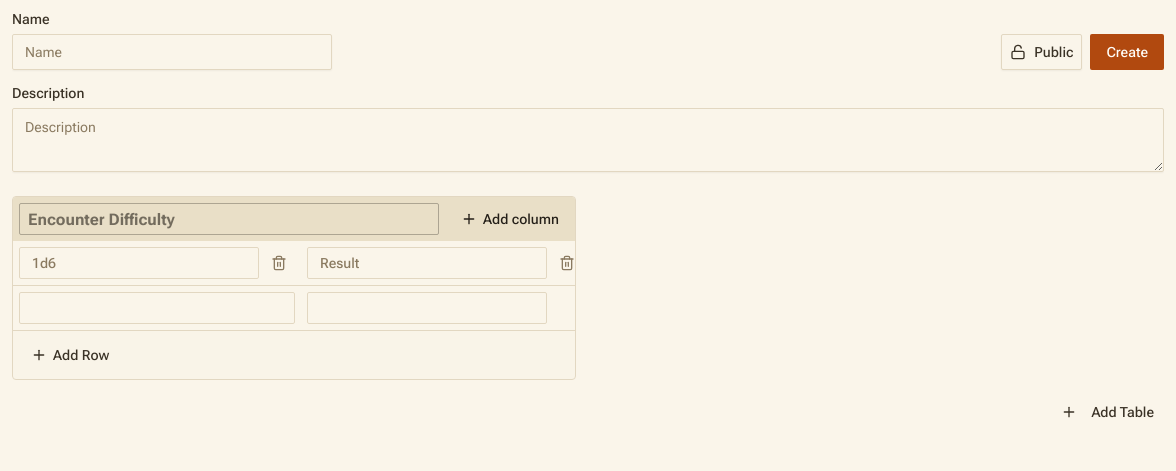
Test: CreateEditRandomTable › keeps the draft and shows a route error
In the field with placeholder "Name": (172, 52) x1=12 y1=34 x2=332 y2=70, type "Weather"
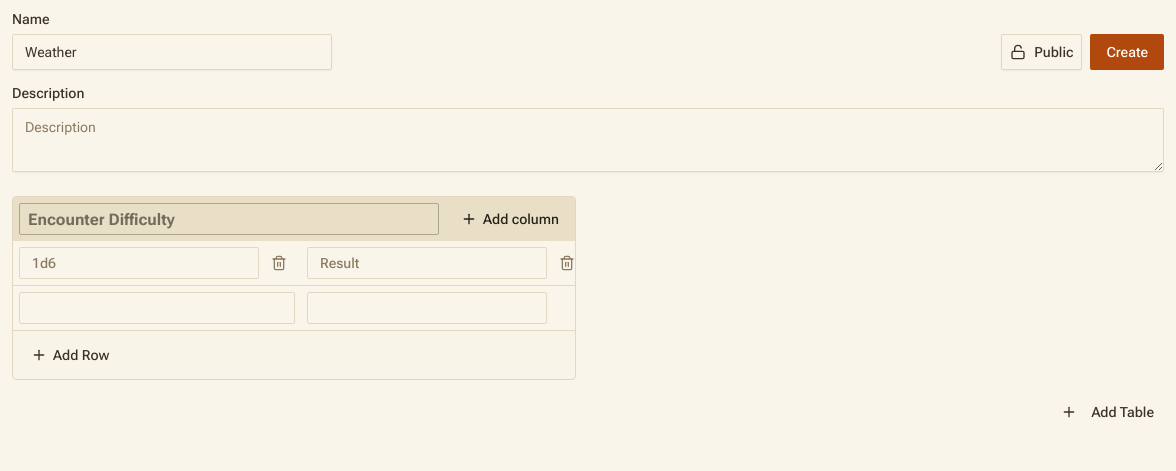
In the field named "Table title": (229, 219) x1=19 y1=203 x2=439 y2=235, type "Weather"
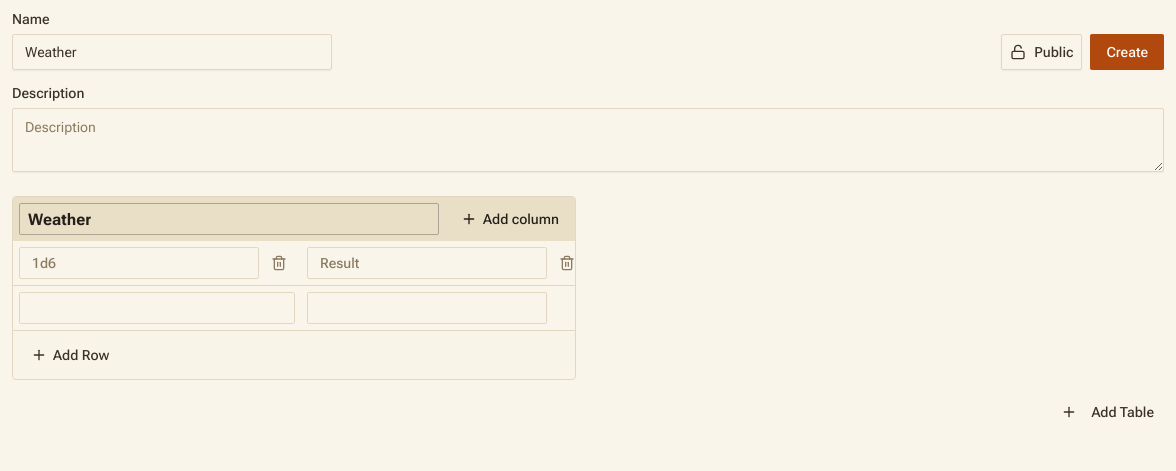
Click the button "Create": click(1127, 52) x1=1090 y1=34 x2=1164 y2=70
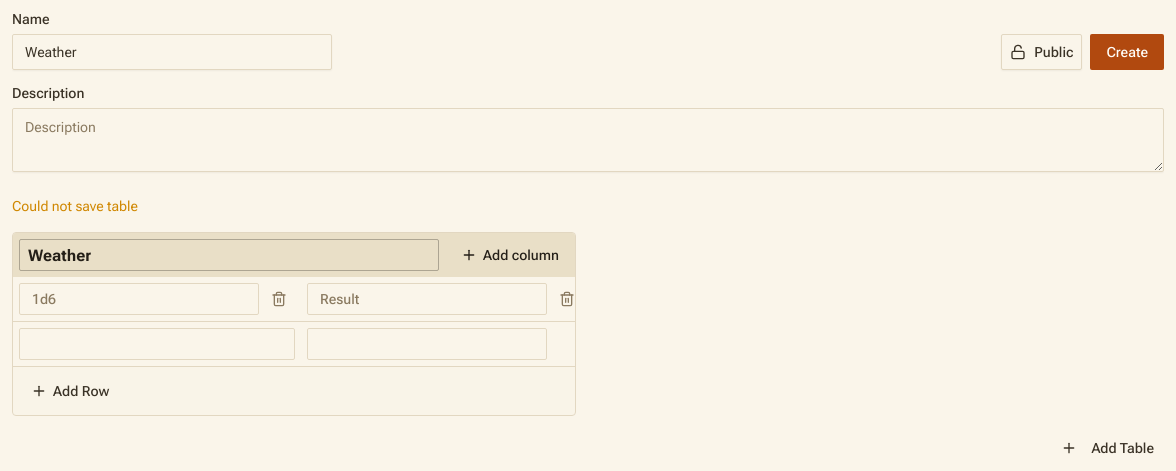
Expected: the text "Could not save table" is shown, x1=12 y1=198 x2=138 y2=214
